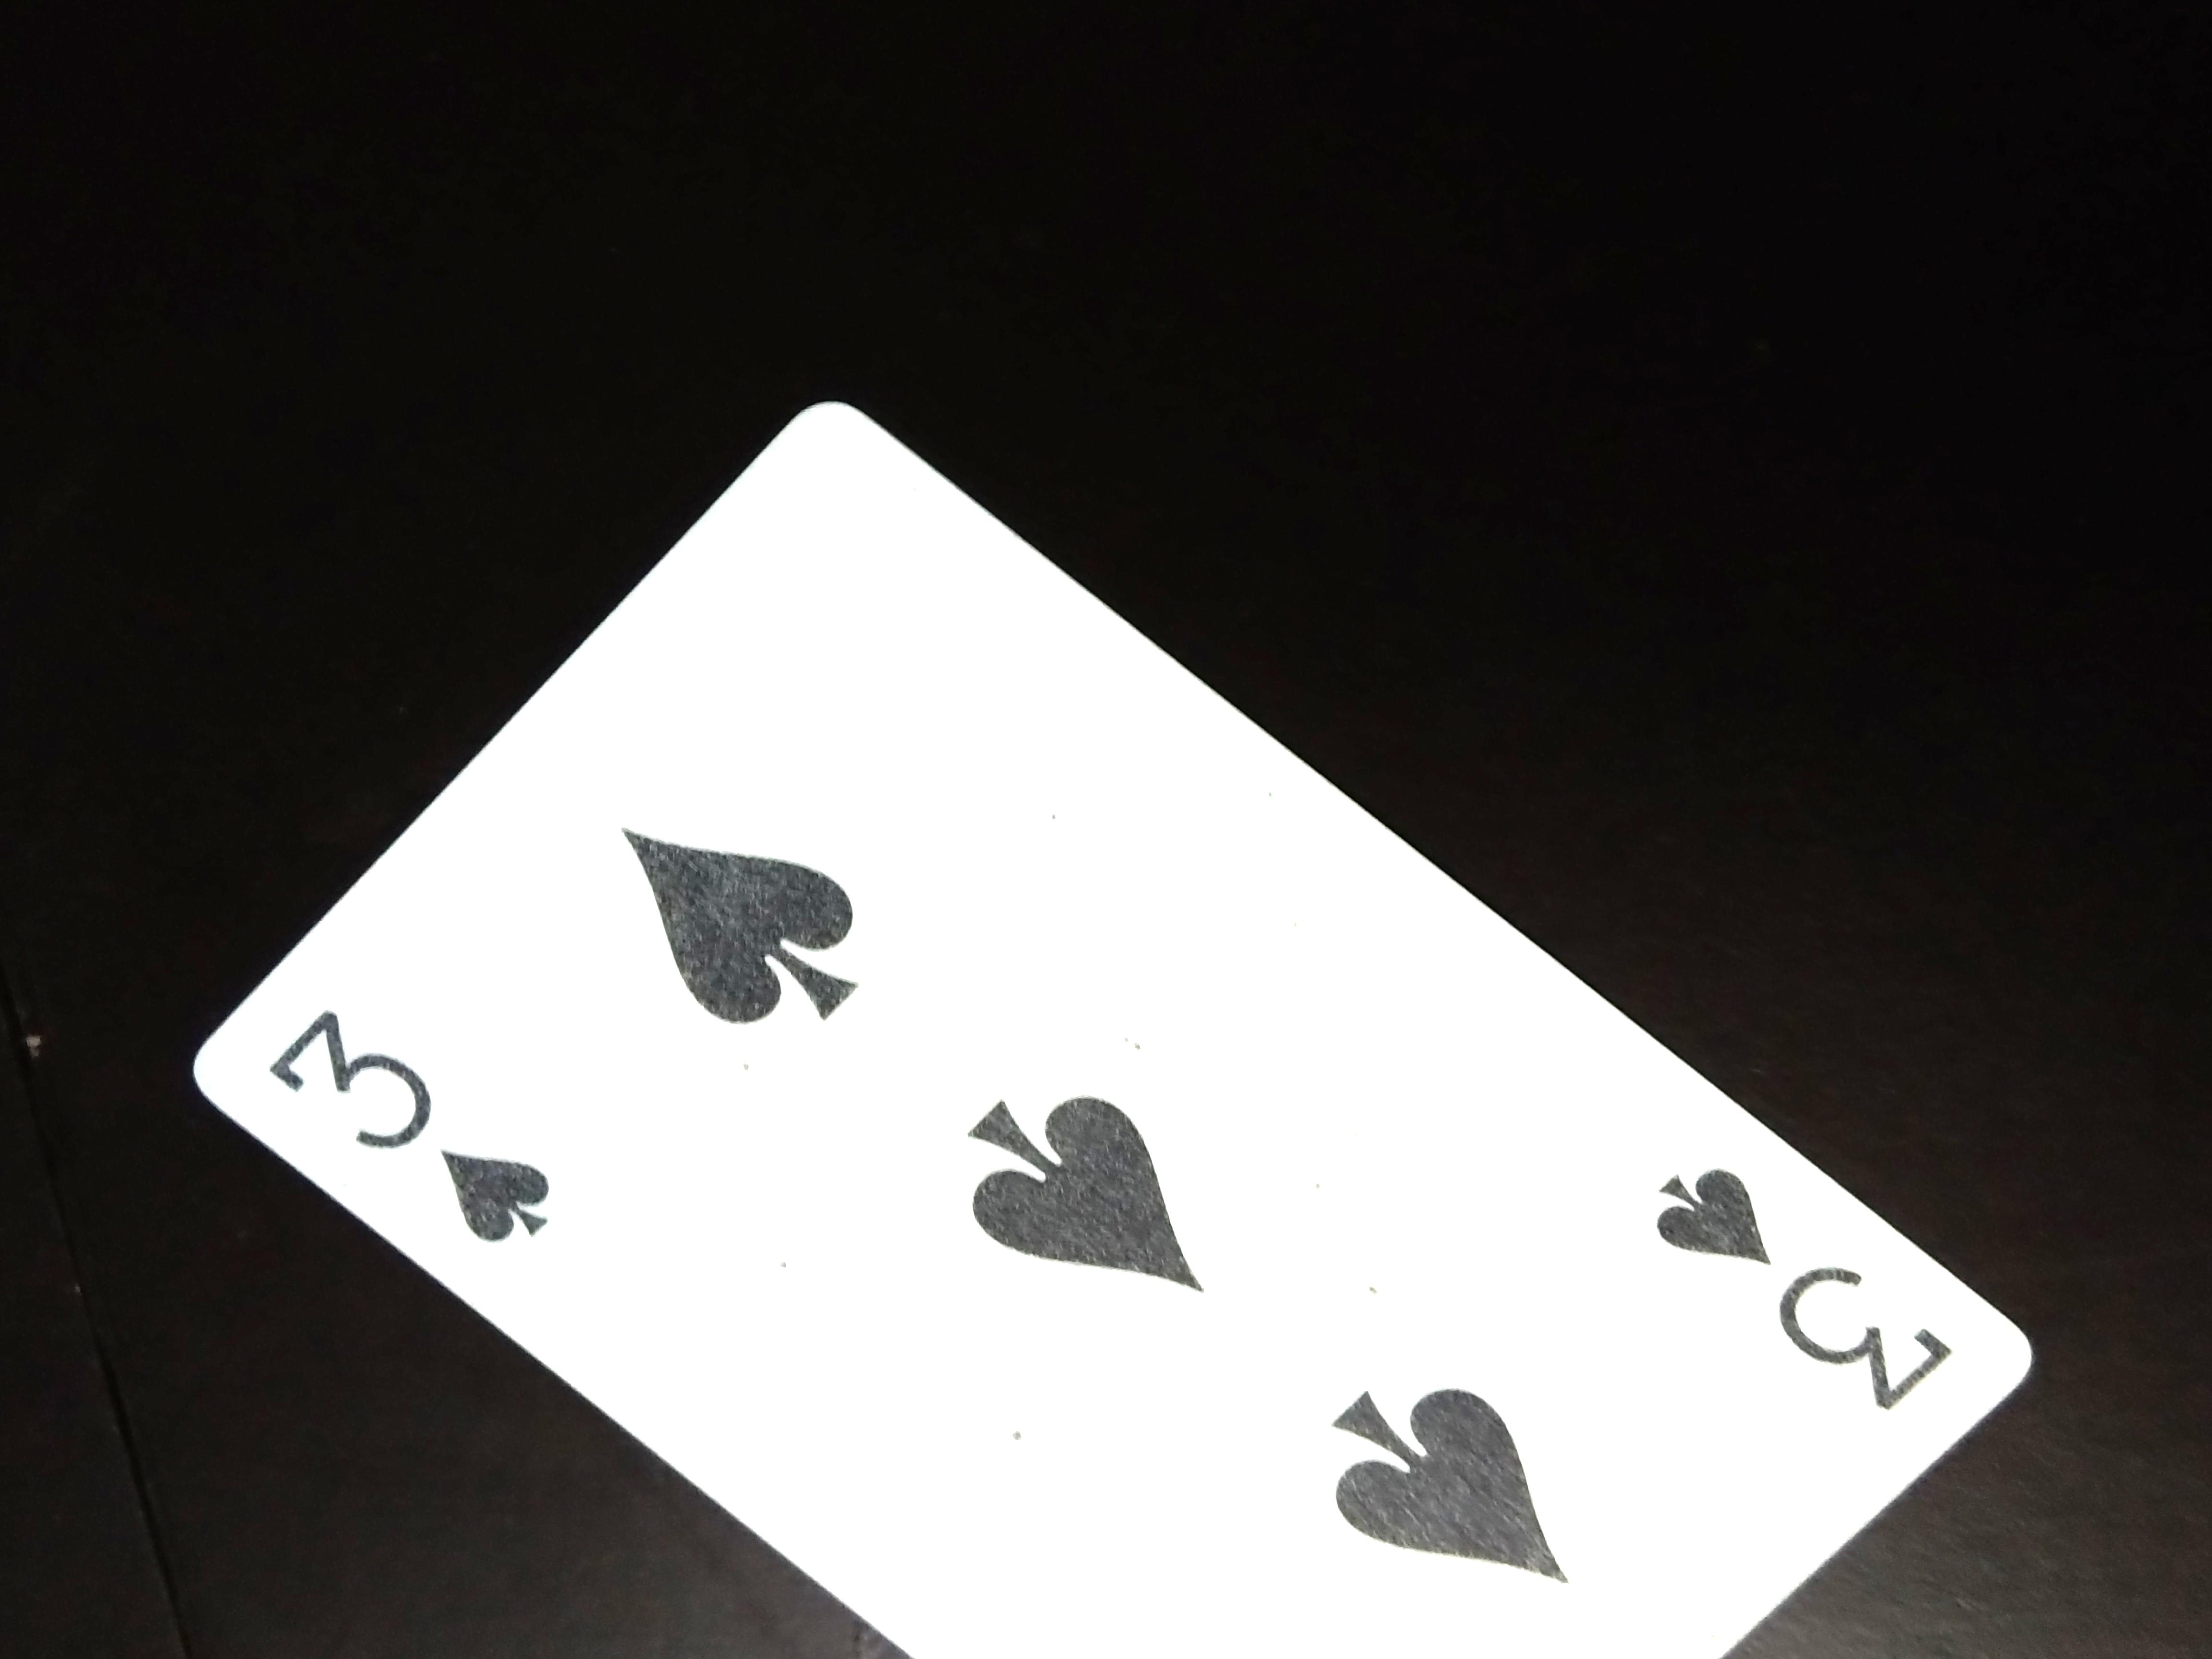3S: (1656, 1157, 1979, 1425)
